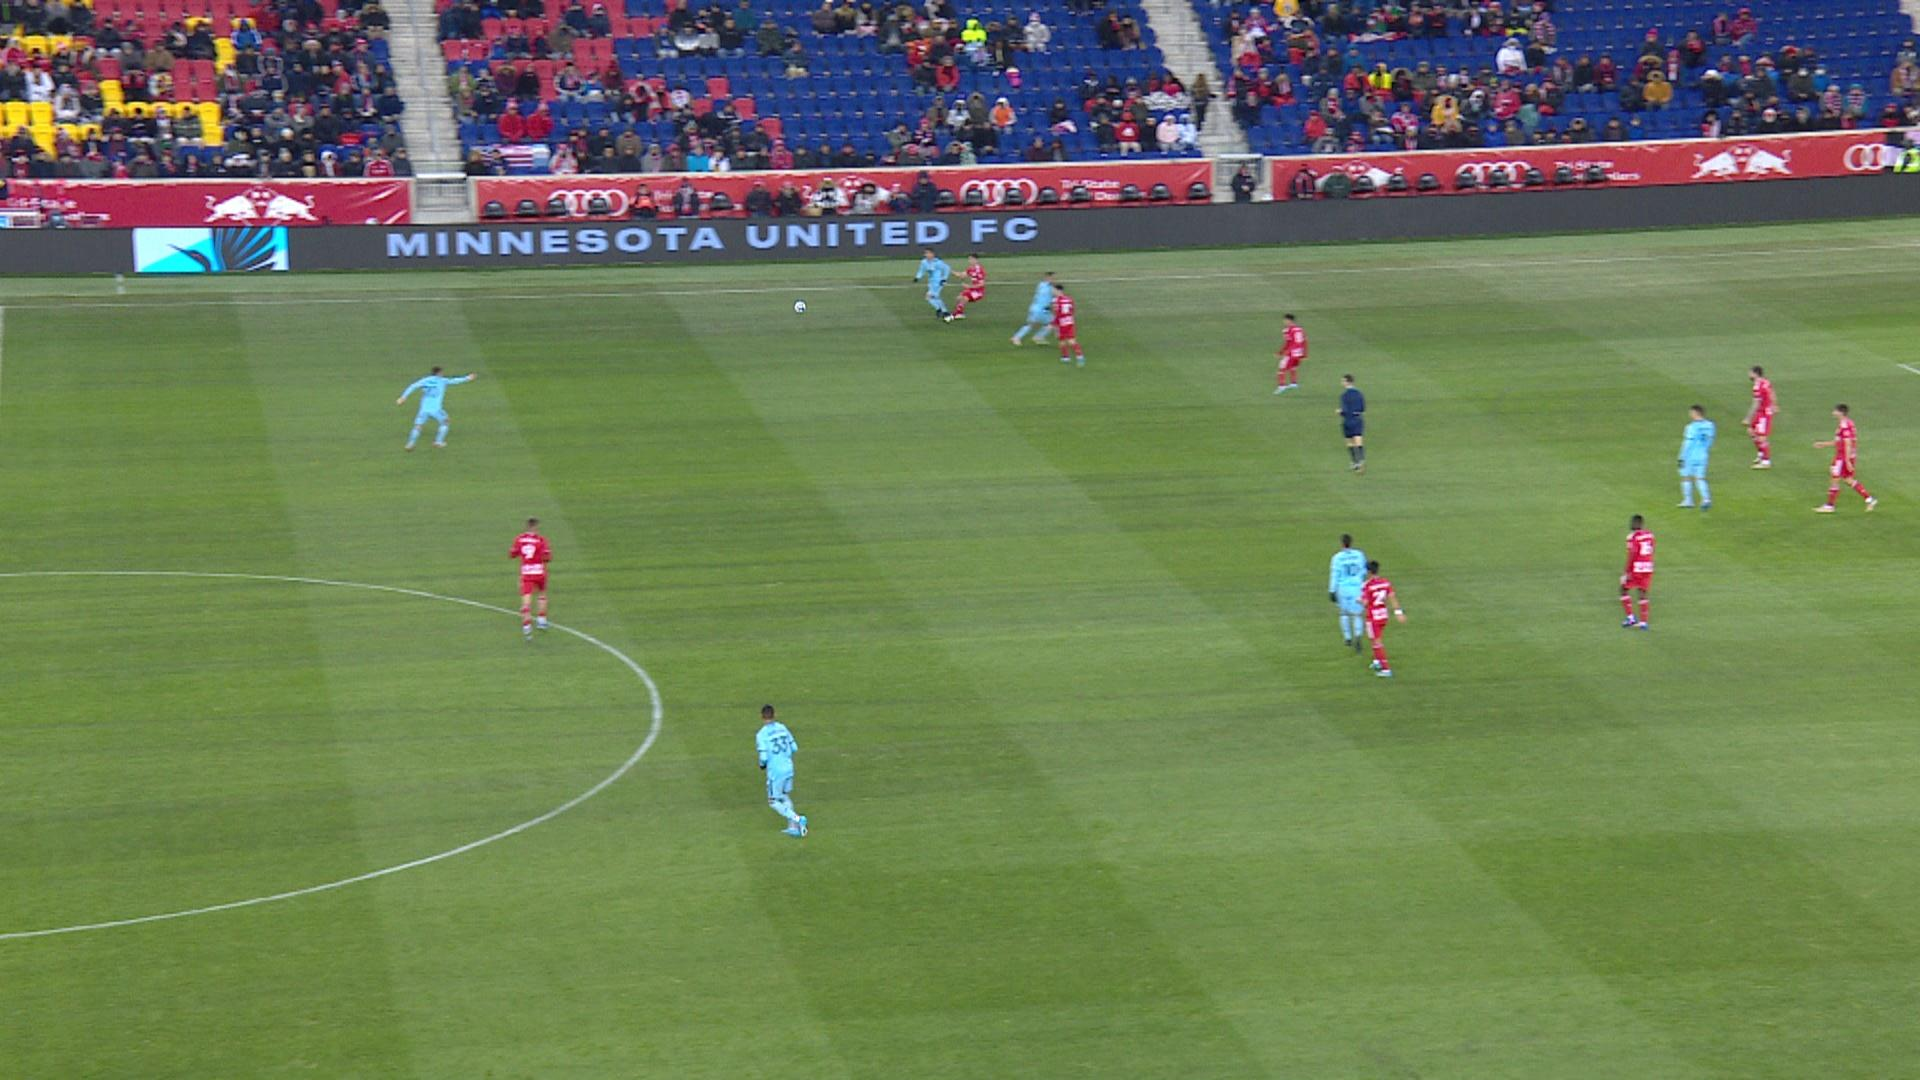football: (793, 300, 808, 314)
